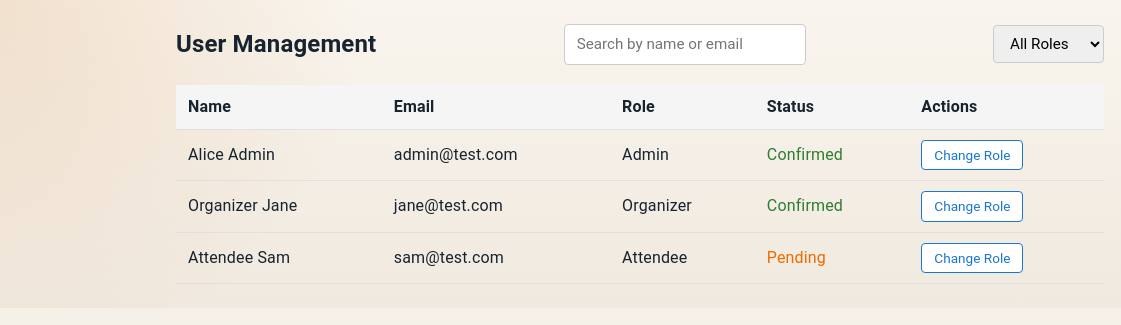
Test case: AdminUserManagement › filters users by search input
Expected: the text "Alice Admin" is shown, x1=176 y1=129 x2=382 y2=181
Type "jane" into the search field named "search users".
click(685, 44); type("jane")  # box x1=564 y1=24 x2=806 y2=65
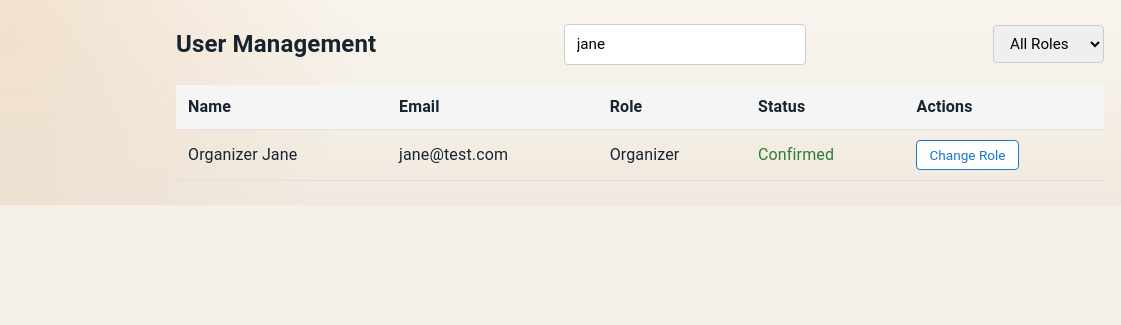
Expected: the text "Organizer Jane" is shown, x1=176 y1=129 x2=387 y2=181
Expected: the text "Alice Admin" is gone
Expected: the text "Attendee Sam" is gone
